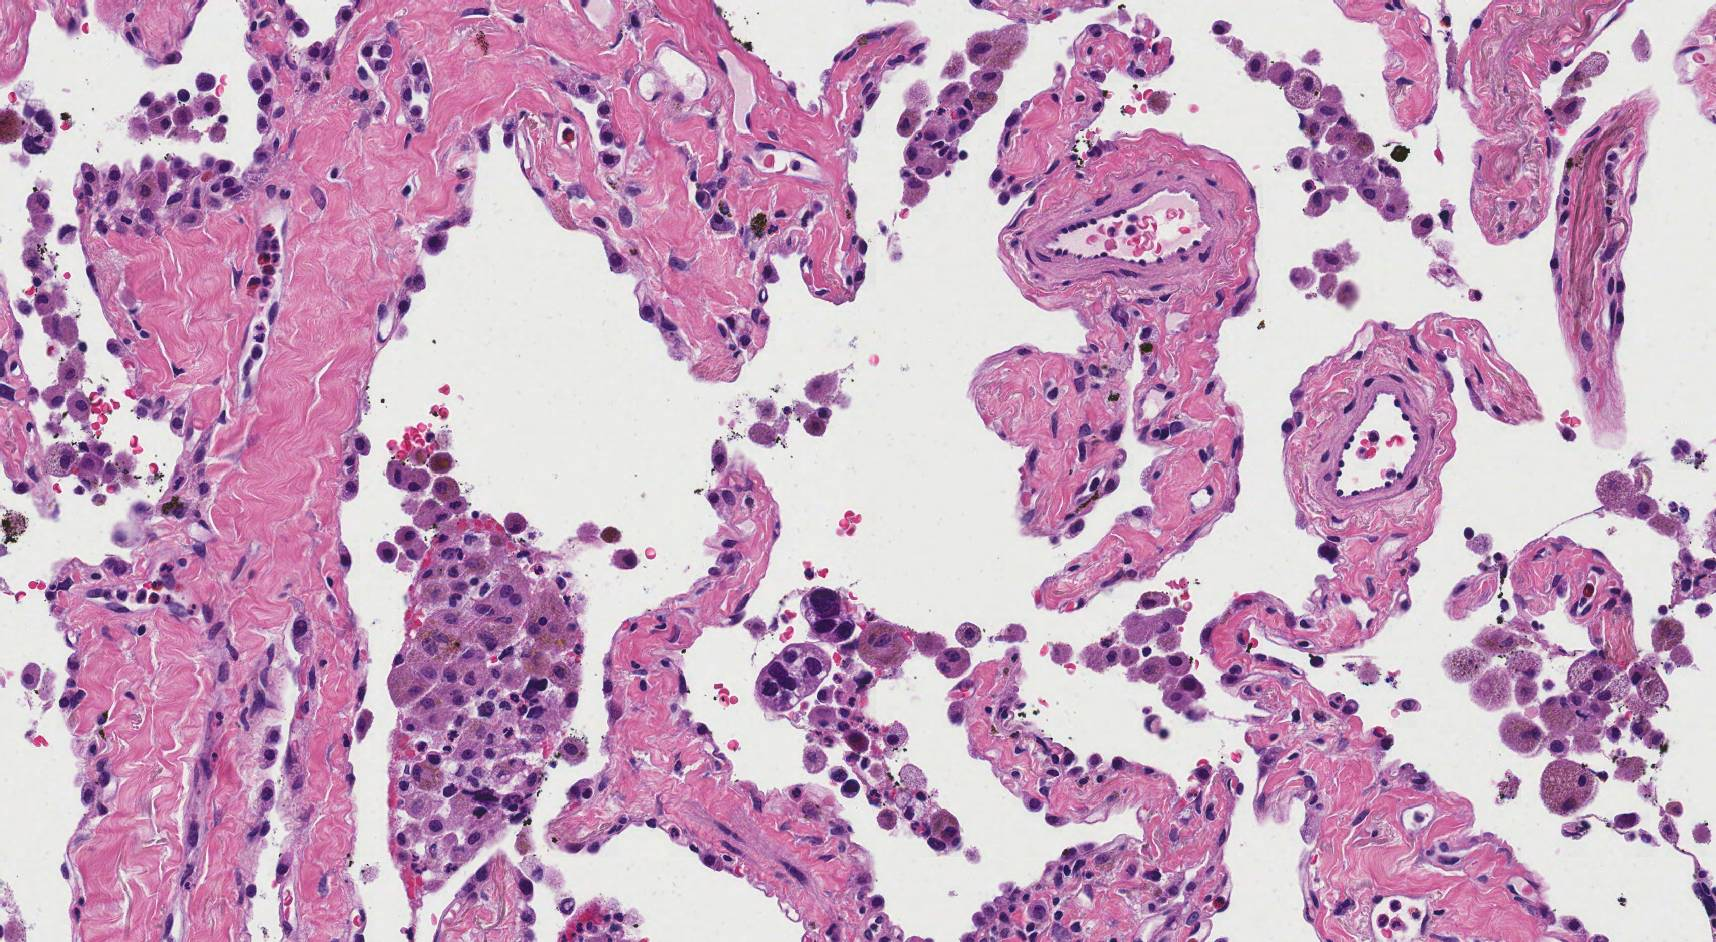stas: (752, 644, 833, 711), (801, 589, 856, 639)
